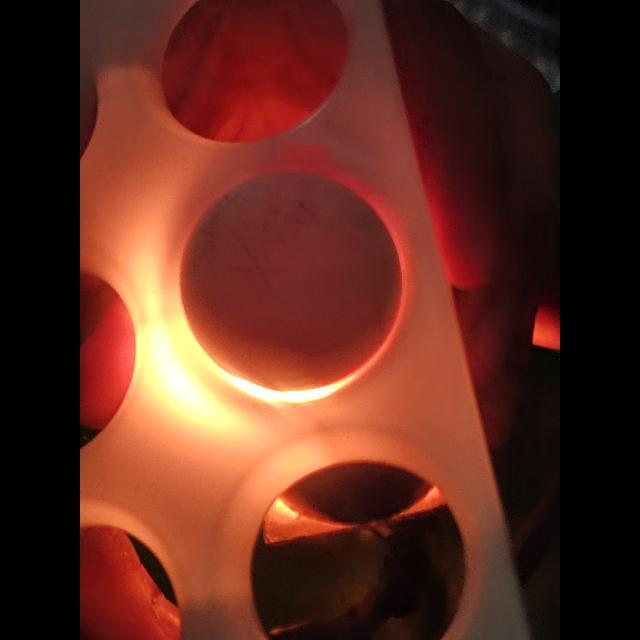Fertile: (182, 166, 406, 384)
